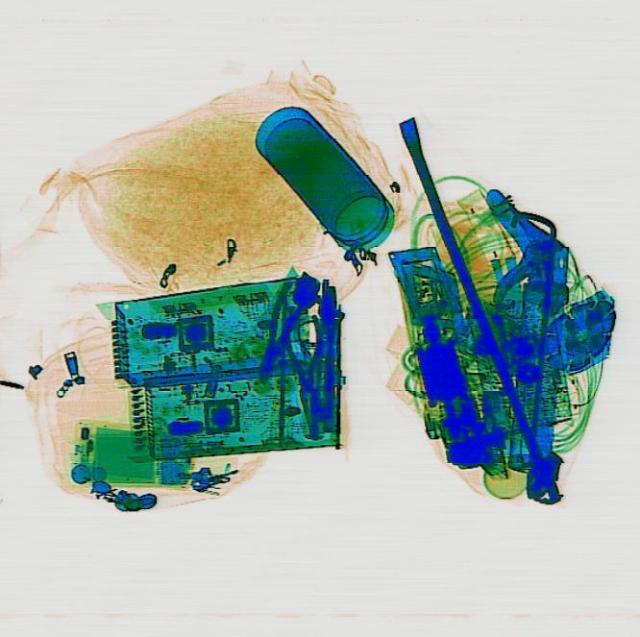Pliers: (278, 311, 334, 436), (246, 278, 308, 381)
